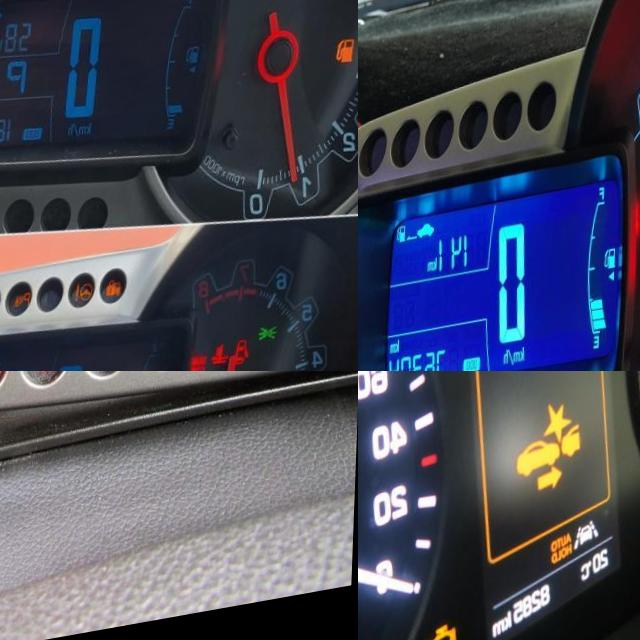Doors: (239, 351, 256, 371)
Engine cooling system: (215, 354, 236, 371)
LaneCenteringOff: (577, 529, 604, 561)
Low fuel level: (336, 53, 358, 84)
SideLamp: (262, 338, 284, 360), (319, 0, 344, 11)
